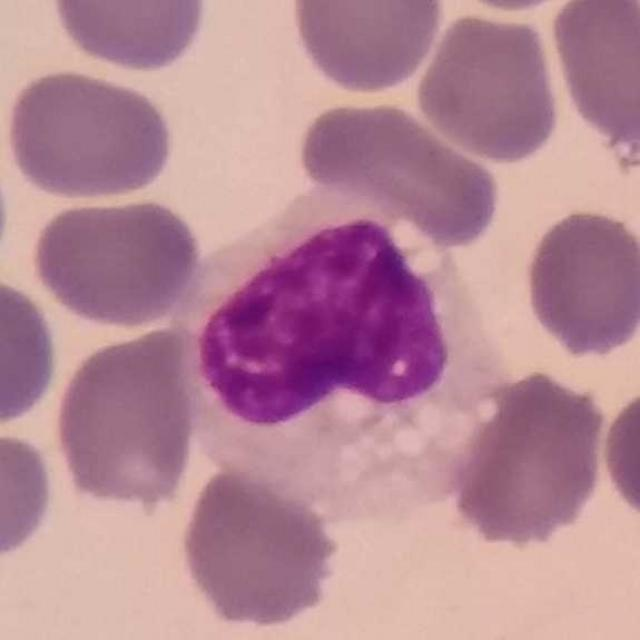mono: (171, 180, 510, 533)
